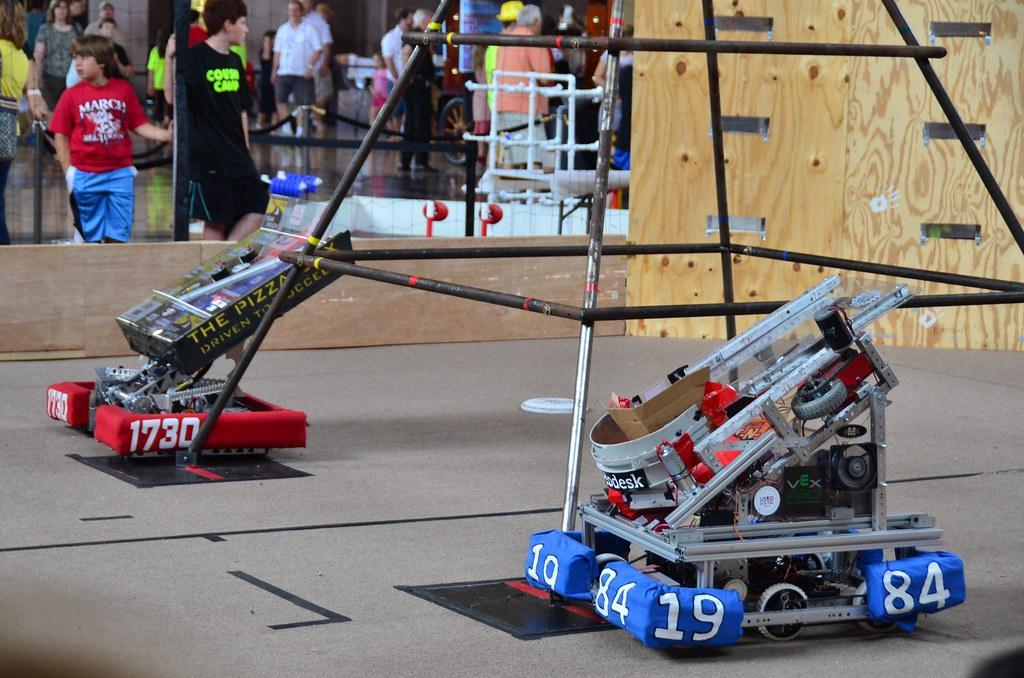robot: (513, 264, 975, 647), (37, 203, 365, 476)
